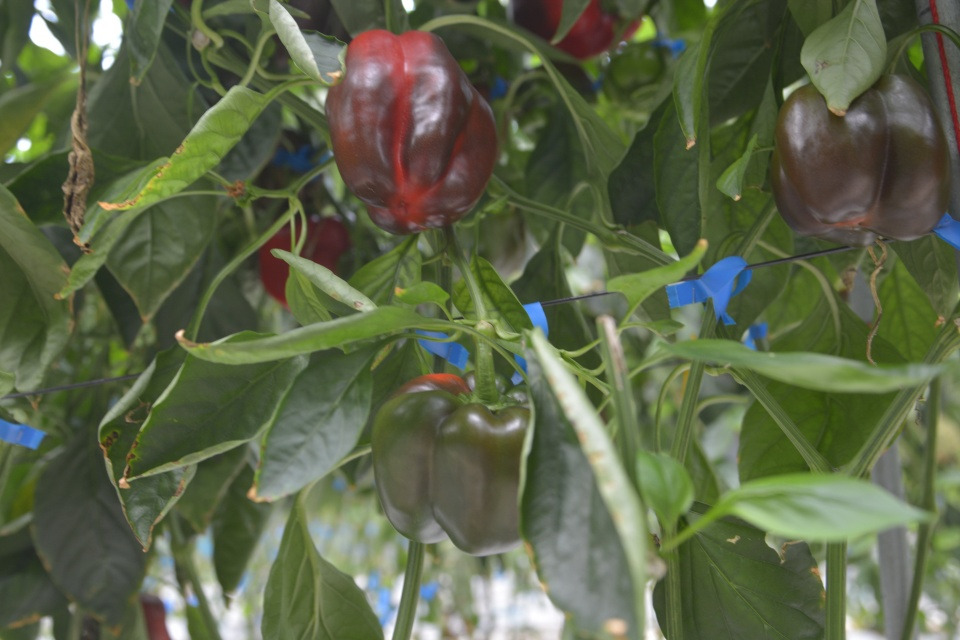fruit: (322, 25, 500, 237), (767, 69, 953, 249), (366, 364, 530, 559), (256, 209, 352, 310), (511, 0, 645, 62)
pedicle: (457, 385, 521, 408)
